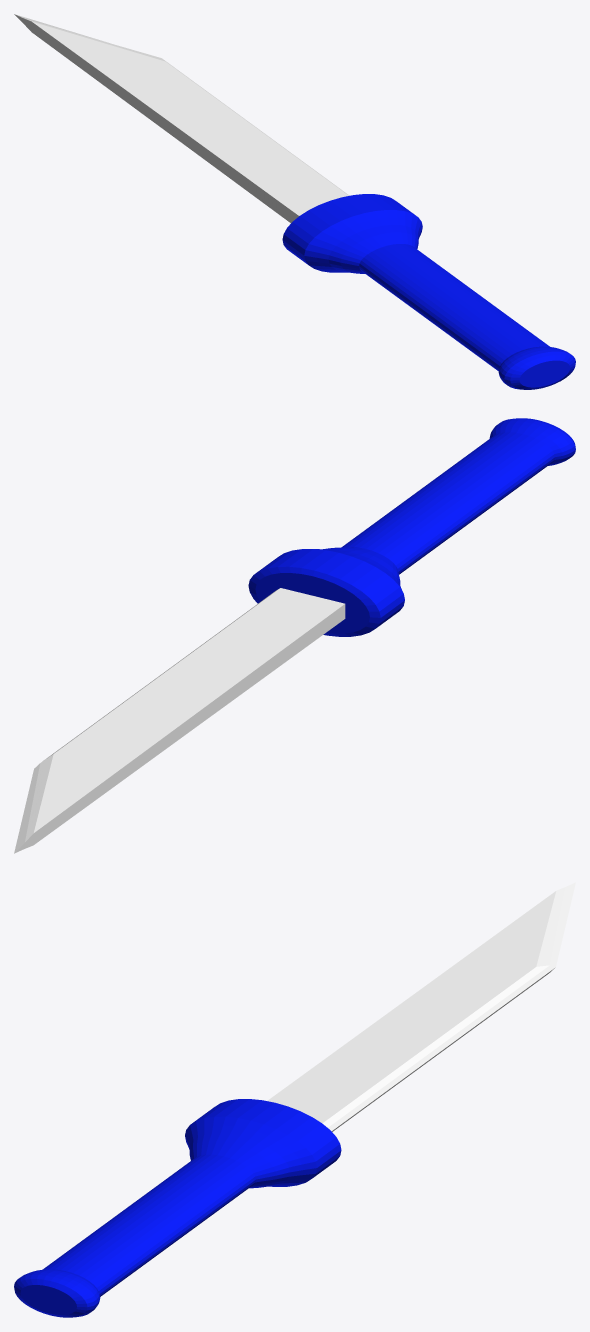
Rendered from Knife.fbx.
The picture shows the model from 3 angles, top to bottom: view 1: azimuth 30°, elevation 25°; view 2: azimuth 150°, elevation 25°; view 3: azimuth 330°, elevation 25°; orthographic projection. The views are drawn at different scales.
Visible parts, largest first — view 1: Handle, Edge; view 2: Edge, Handle; view 3: Handle, Edge.
Part boxes in pixels (left/top/right/bottom): Handle: left=282, top=194, right=575, bottom=389; Edge: left=14, top=14, right=349, bottom=222; Edge: left=14, top=588, right=345, bottom=853; Handle: left=248, top=418, right=575, bottom=636; Handle: left=14, top=1099, right=341, bottom=1317; Edge: left=267, top=882, right=575, bottom=1131.
Bounding box in the file's own units: 14.31 × 6.46 × 105.
